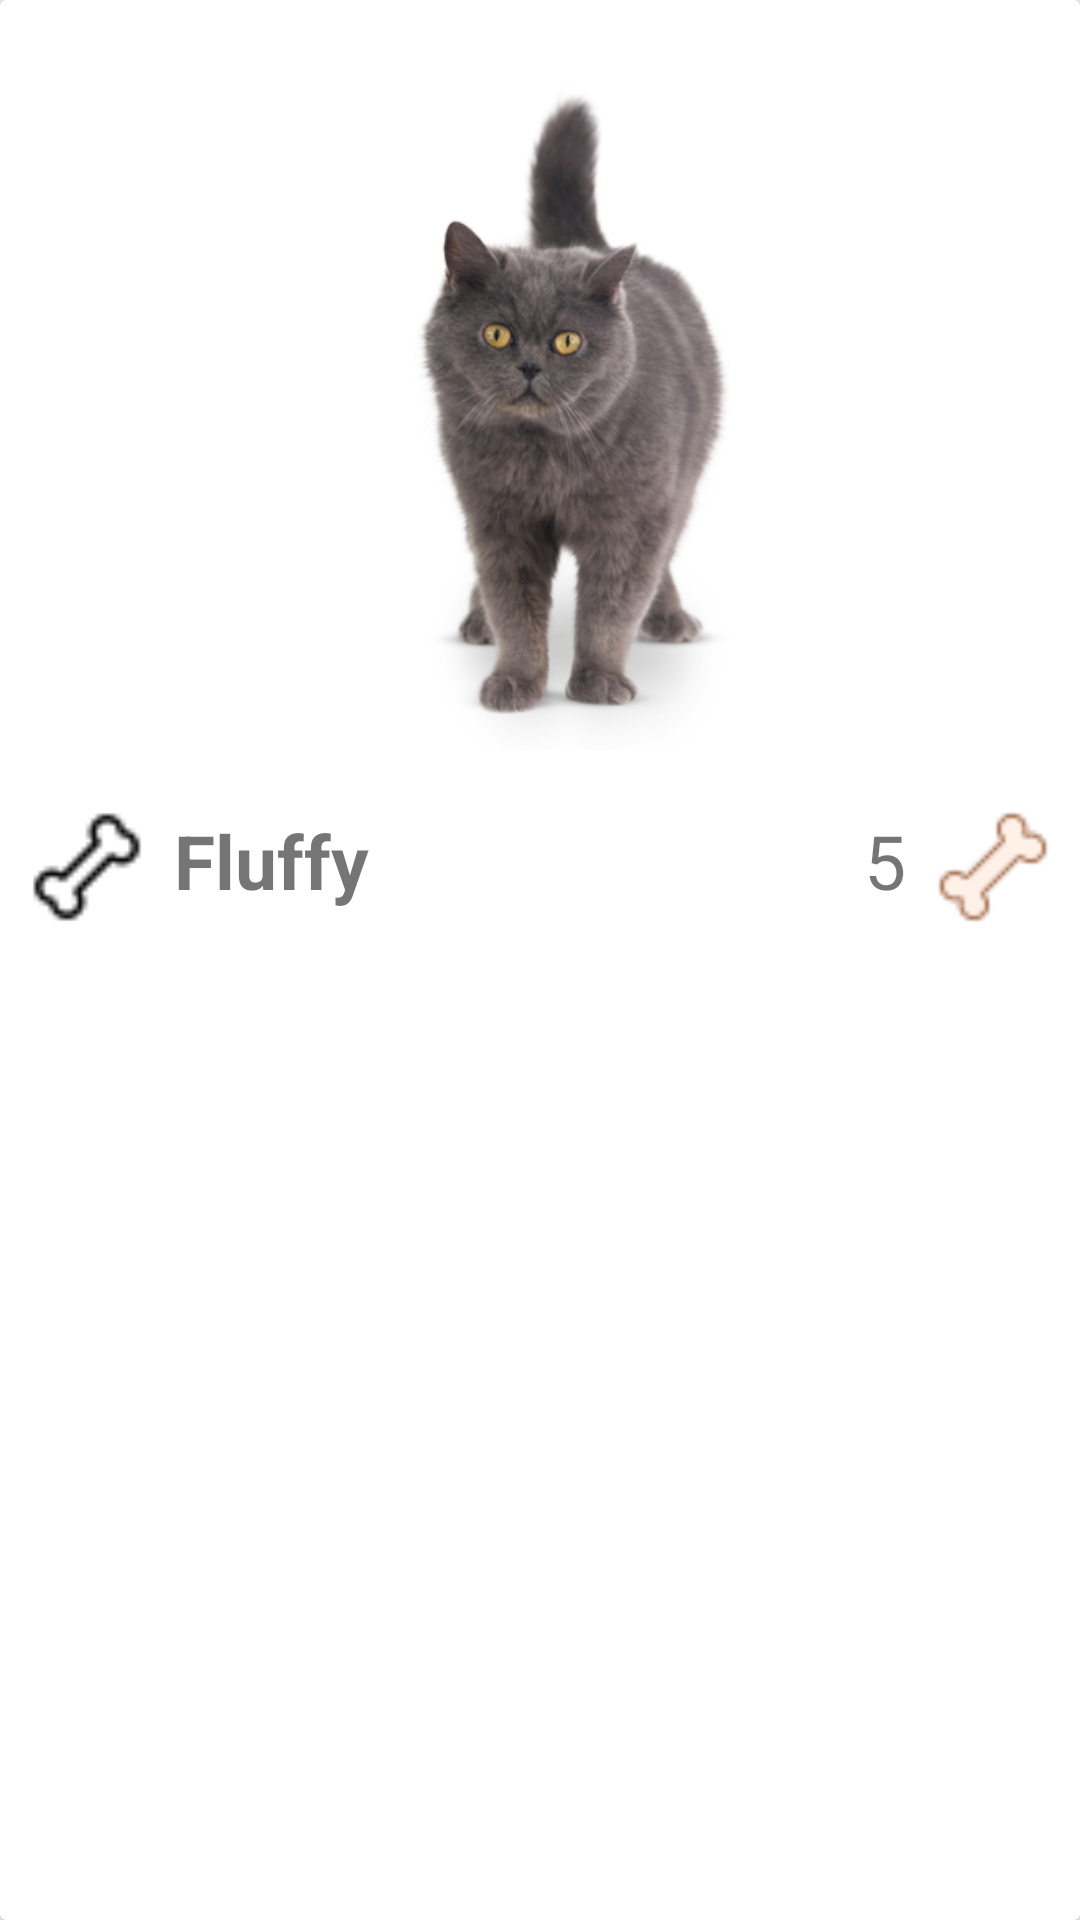

Where icons sit on this 1080px x 1920px app screen, as [x1, y1, x2, y2]:
huesolleno: [938, 812, 1048, 922]
huesovacio: [33, 813, 141, 921]
